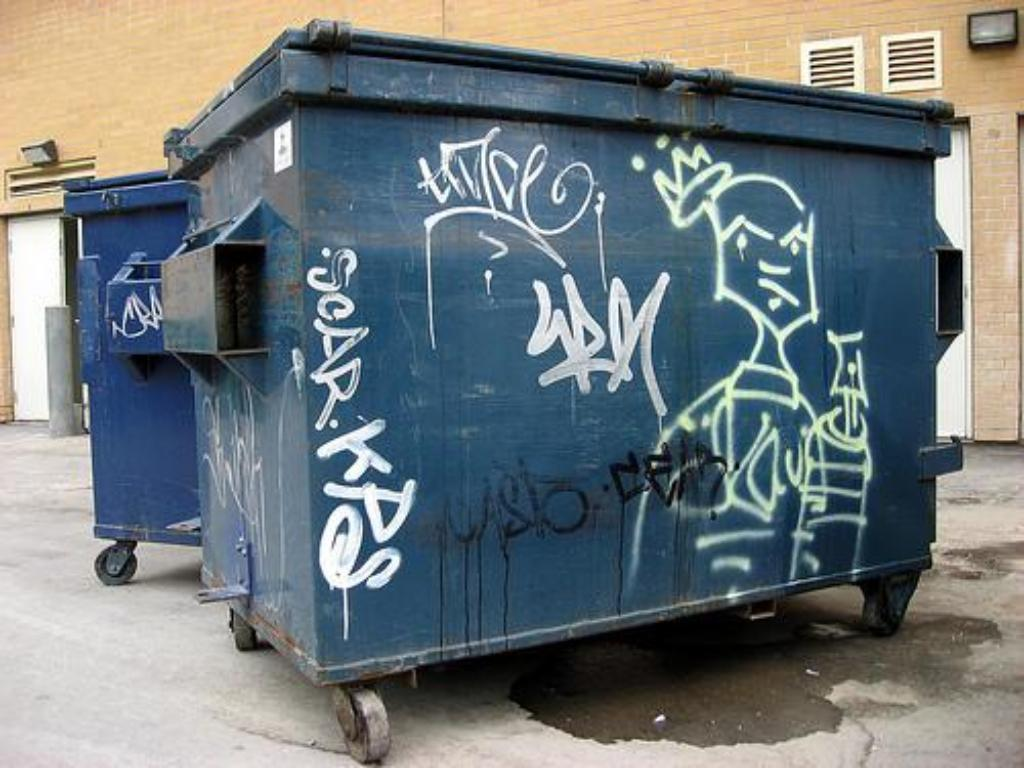dustbin: (67, 3, 993, 762)
